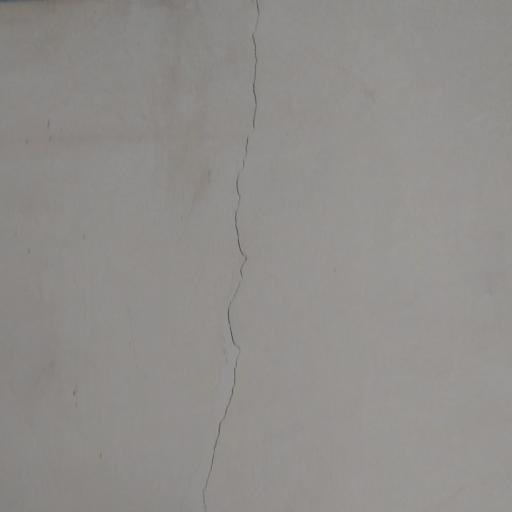minor_crack: (198, 0, 266, 512)
